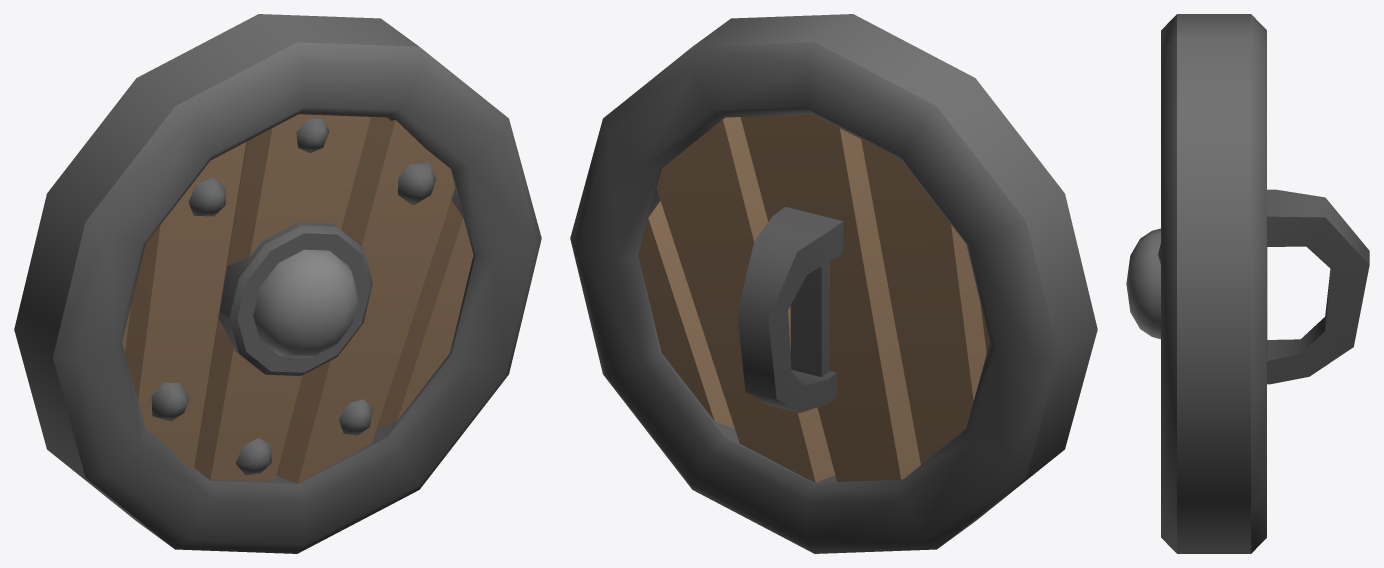
File: Shield_2.fbx
3 views of the same model, side by side, from view 1: azimuth 30°, elevation 25°; view 2: azimuth 150°, elevation 25°; view 3: azimuth 270°, elevation 25° (orthographic). The views are drawn at different scales.
Visible parts, largest first — view 1: Shield_2; view 2: Shield_2; view 3: Shield_2.
Boxes of the visible parts, x1,y1,x2,y2 form: Shield_2: (14,14,541,553); Shield_2: (570,14,1097,553); Shield_2: (1126,14,1369,553).
Size of the model in its own units: 80.25 by 80.25 by 36.01.
